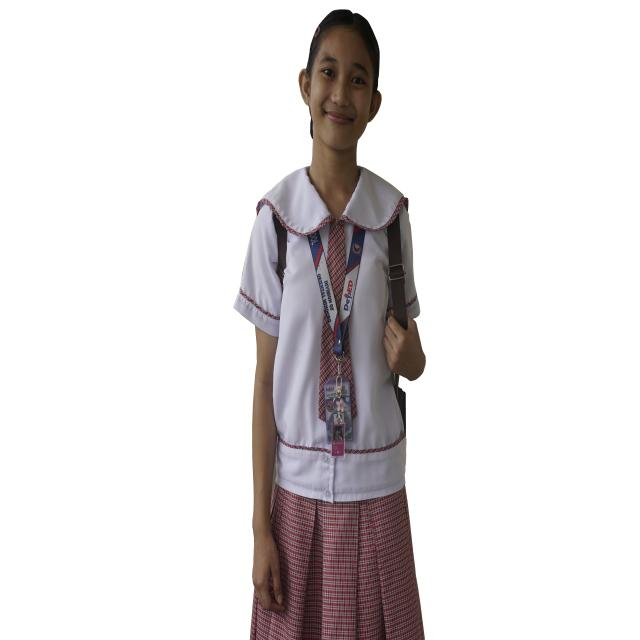id lace: (308, 226, 366, 369)
pologirl: (234, 168, 420, 501), (325, 218, 346, 303), (321, 320, 335, 375), (343, 333, 351, 376), (318, 378, 324, 418)
